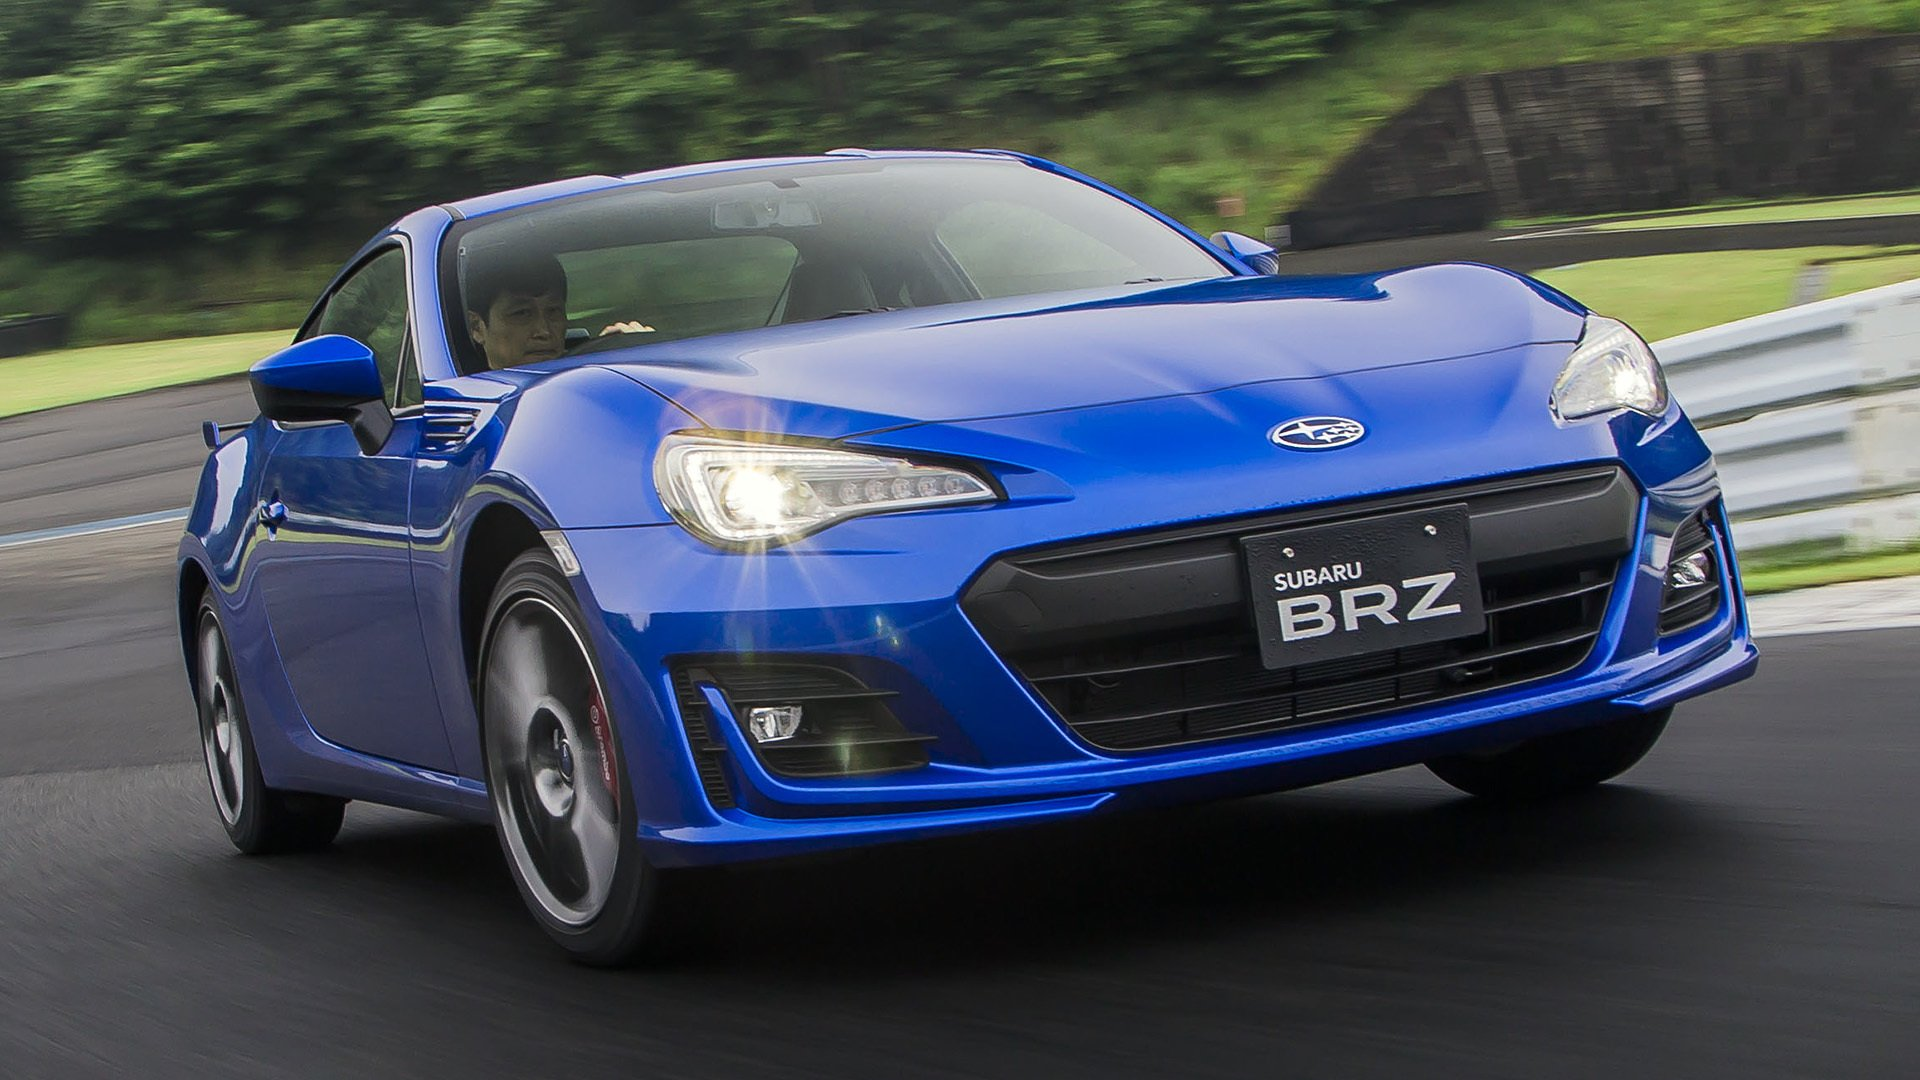headlight: (641, 398, 1014, 546), (1528, 294, 1683, 419)
wheel: (439, 526, 671, 955), (161, 562, 363, 858), (1407, 654, 1726, 802)
